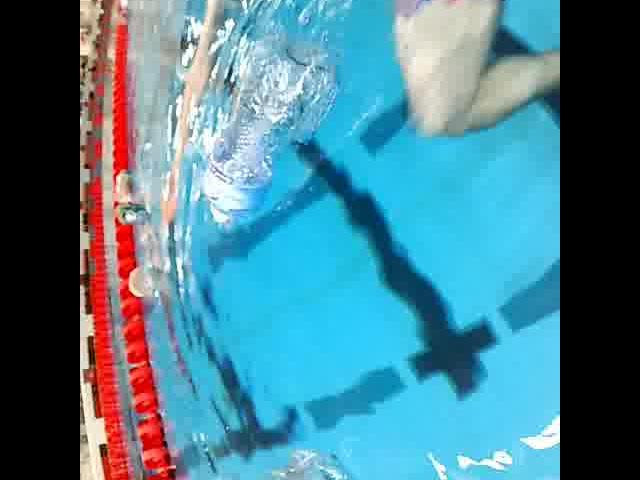Bottle: (198, 30, 328, 238), (262, 424, 482, 480)
Can: (116, 200, 148, 232)
